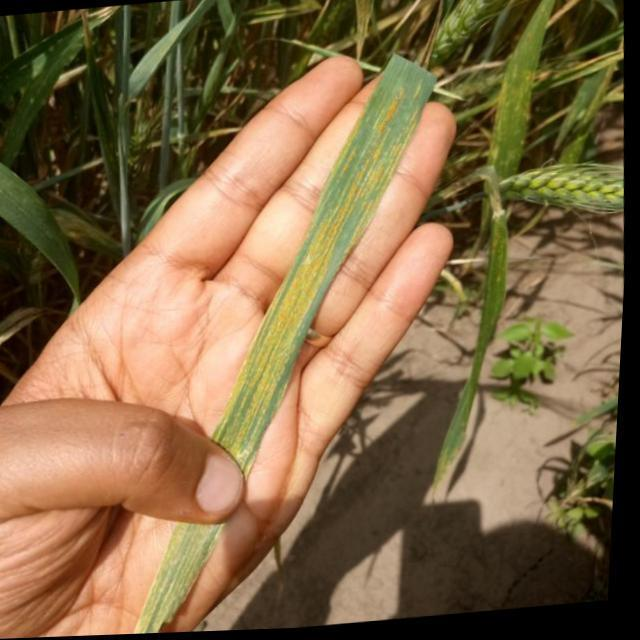Yellow_Rust: (215, 58, 435, 481), (138, 526, 228, 634)
